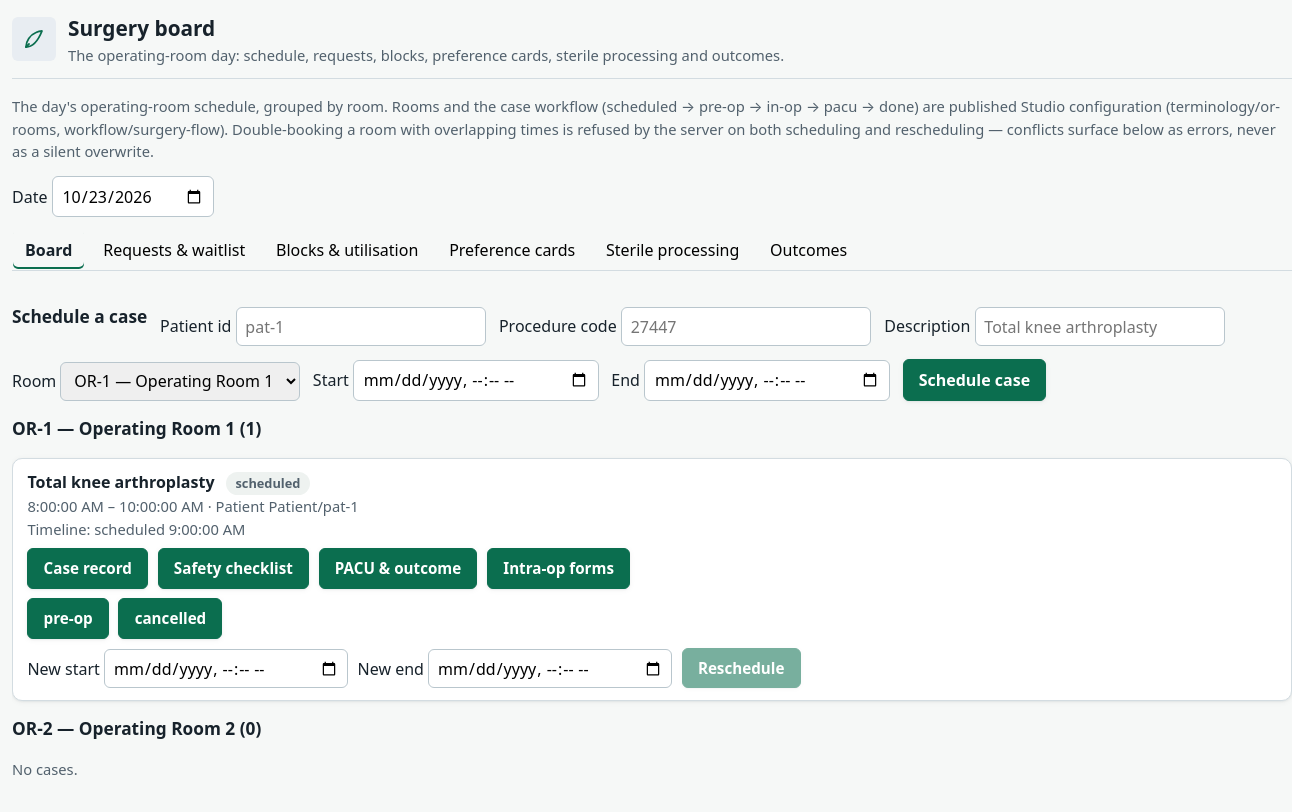
Test: SurgeryBoardPage — Phase 15 depth › blocks tab renders block templates and server utilisation figures
Expected: the text "Total knee arthroplasty" is shown, [27,471,214,493]
Click the tab "Blocks & utilisation".
click(347, 250)  # box [263,230,431,270]
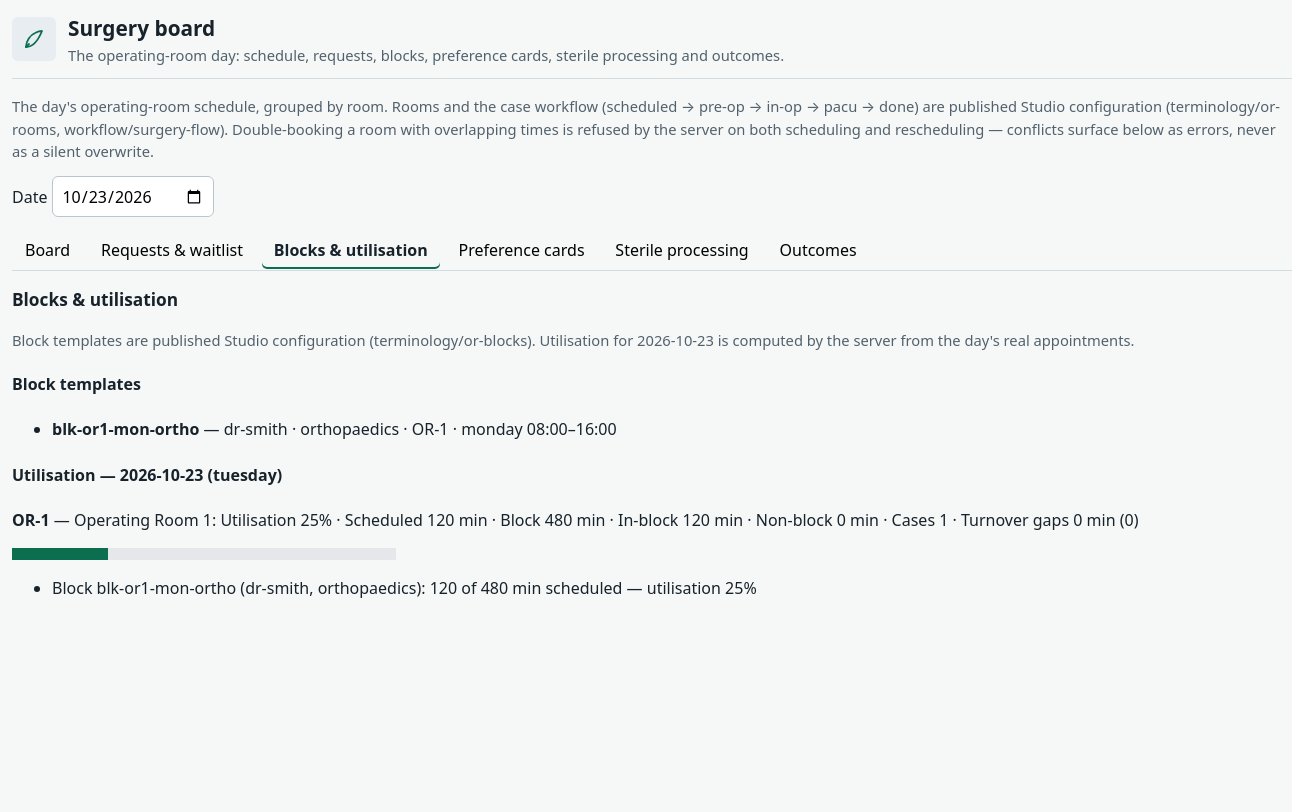
Expected: the text "In-block 120 min" is shown, [12,508,1291,532]
Expected: the text "blk-or1-mon-ortho" is shown, [52,418,199,440]
